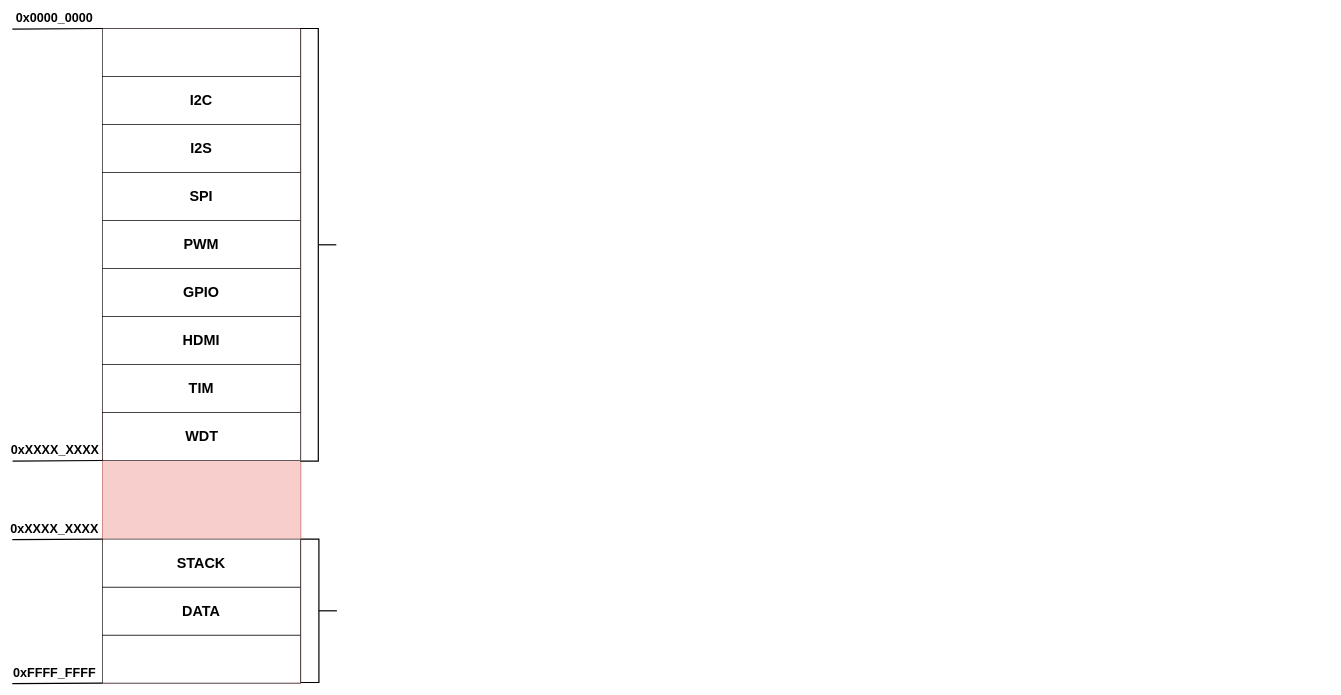
Some shapes in this 1341 by 695 pixel diagram are drawn without their labels. The box of each missing label's shape, as (x1, y1, x2, y2) in pixels:
EXECUTION: (300, 538, 337, 683)
PERIPHERAL: (299, 28, 337, 461)
PROGRAM: (102, 634, 300, 683)
UART: (102, 28, 300, 76)
